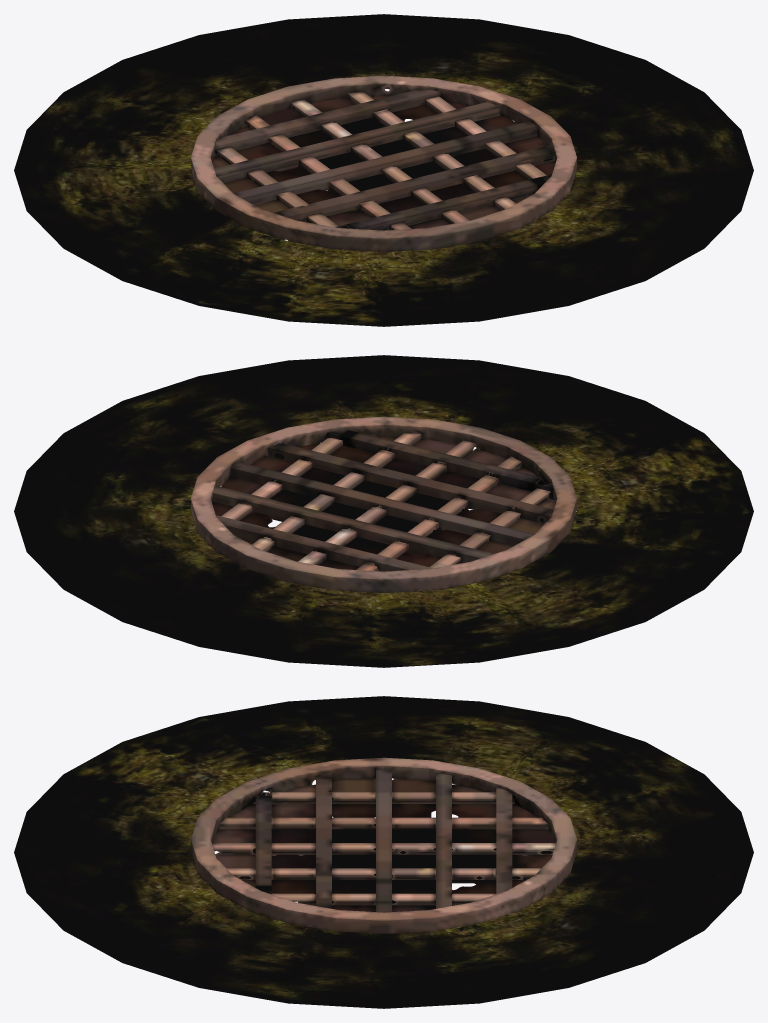
File: sewerGrateB.fbx
3 views of the same model, one above another, from view 1: azimuth 30°, elevation 25°; view 2: azimuth 150°, elevation 25°; view 3: azimuth 270°, elevation 25° (orthographic).
Visible parts, largest first — view 1: sewerGrateB (×2); view 2: sewerGrateB (×2); view 3: sewerGrateB (×2).
Part boxes in pixels (box(x1,y1,x2,y2)): sewerGrateB (×2): box(14, 14, 753, 326); sewerGrateB (×2): box(14, 355, 753, 667); sewerGrateB (×2): box(14, 696, 753, 1008).
Size of the model in its own units: 304 by 6.91 by 304.
2 materials, 2 textured.
